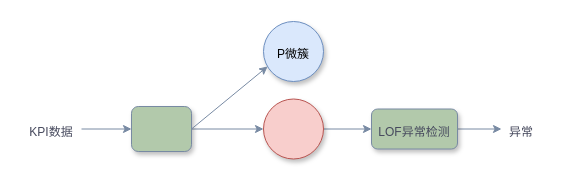
Image size: 564x184. Some labels were removed from this diagram. The shapes that lost their labels are listed below. From the top down, each one's centre as x and y in pixels, then its label:
pixel 162 130: 流式聚类
pixel 294 130: O微簇
